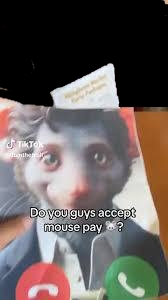mouse-pay: (1, 99, 162, 296)
